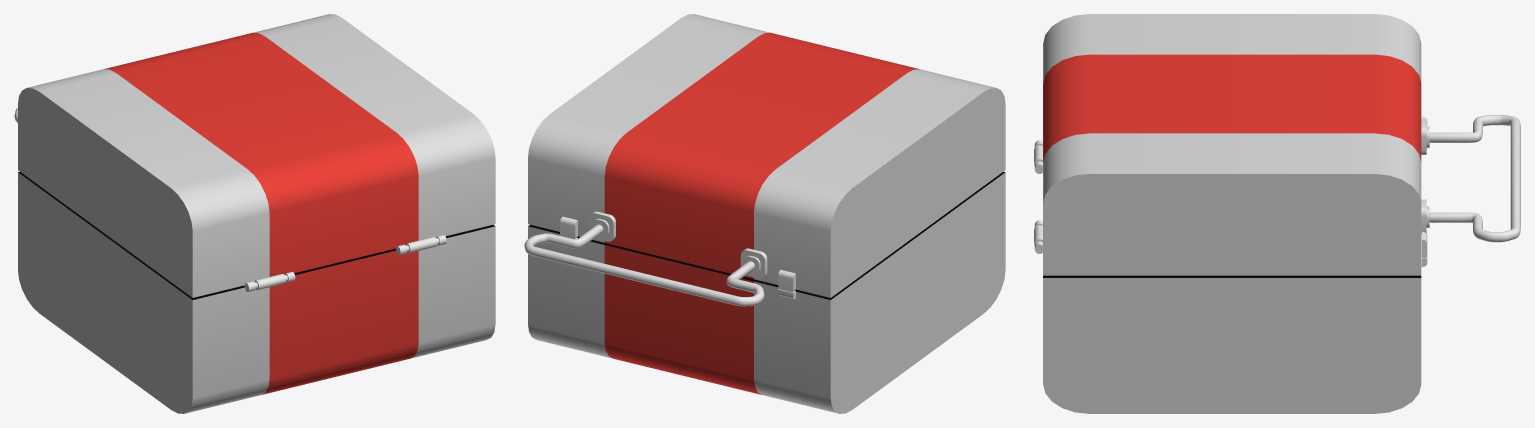
The model's file is Sterilize.fbx.
The picture shows the model from 3 angles, left to right: view 1: azimuth 30°, elevation 25°; view 2: azimuth 150°, elevation 25°; view 3: azimuth 270°, elevation 25°; orthographic projection. The views are drawn at different scales.
Visible parts, largest first — view 1: Cube, Cylinder.001; view 2: Cube, Plane, Cube.001, Cube.004; view 3: Cube, Plane, Cylinder.001, Cube.001.
Boxes of the visible parts, box(x1,y1,x2,y2) form: Cube: box(18, 14, 495, 413); Cylinder.001: box(244, 235, 446, 292); Cube: box(528, 14, 1005, 413); Plane: box(524, 224, 764, 306); Cube.001: box(589, 211, 767, 278); Cube.004: box(560, 216, 795, 299); Cube: box(1043, 14, 1421, 413); Plane: box(1429, 115, 1520, 242); Cylinder.001: box(1034, 140, 1042, 253); Cube.001: box(1421, 119, 1429, 234).
Size of the model in its own units: 200 by 140 by 257.
